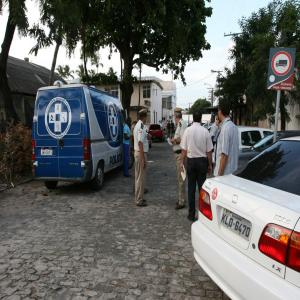Vehicle-registration-plate: (221, 209, 253, 240), (42, 148, 54, 157)
